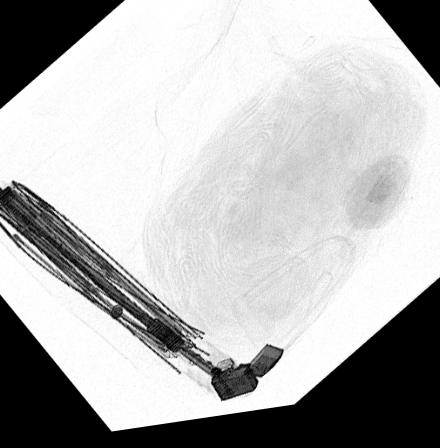Lighter: (208, 351, 283, 407)
